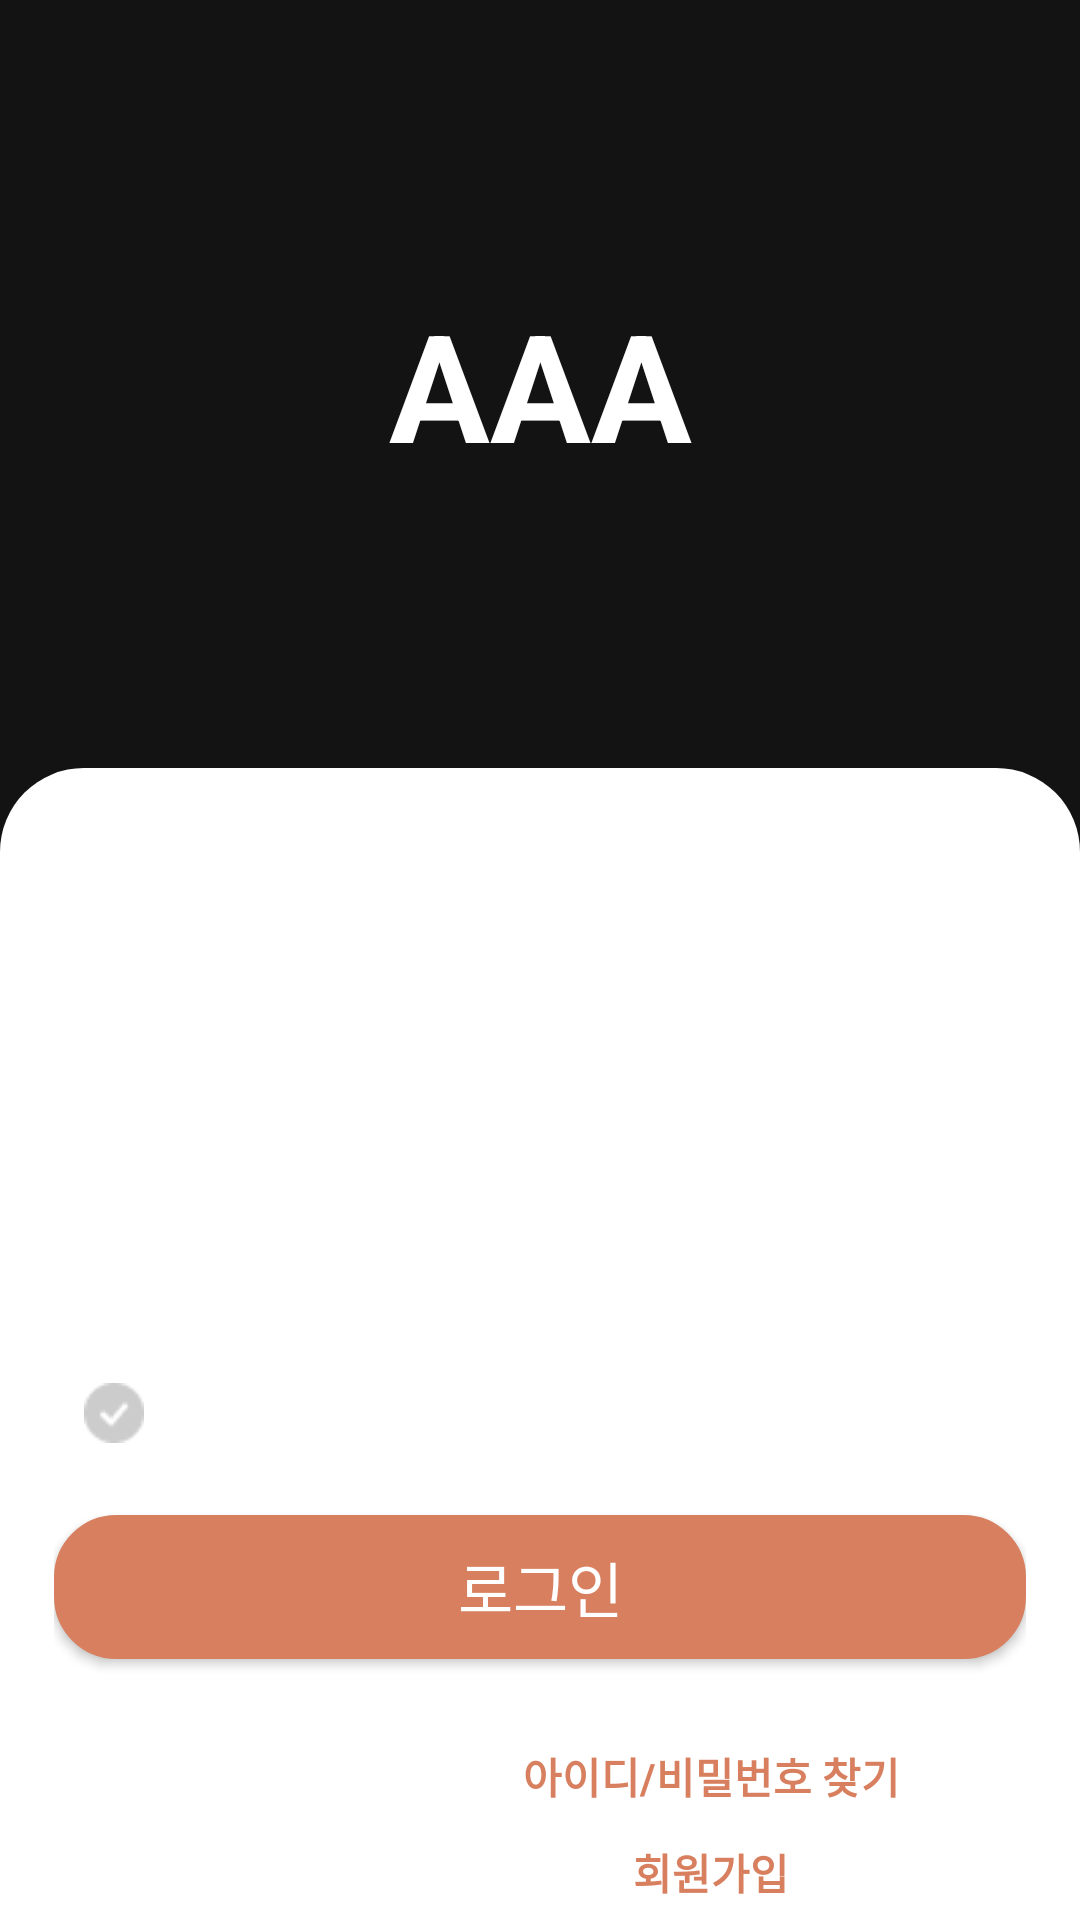

Locate icon controls on the screen. Image size 1080x1920, boxes as (x1, y1, x2, y2).
uncheck: (84, 1383, 144, 1443)
